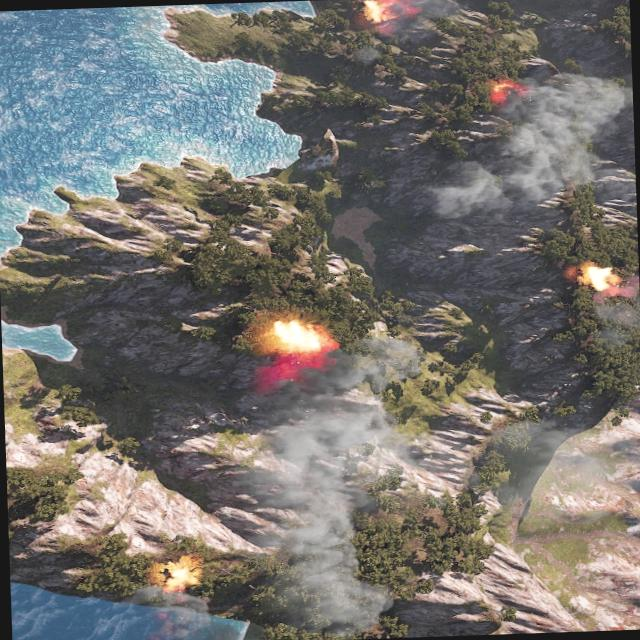fire: (268, 317, 330, 353), (162, 560, 194, 592), (488, 78, 526, 102), (582, 266, 616, 291), (362, 0, 383, 21)
smoke: (236, 336, 437, 640), (429, 72, 636, 220), (132, 581, 215, 640), (360, 0, 463, 44), (571, 277, 640, 342)
